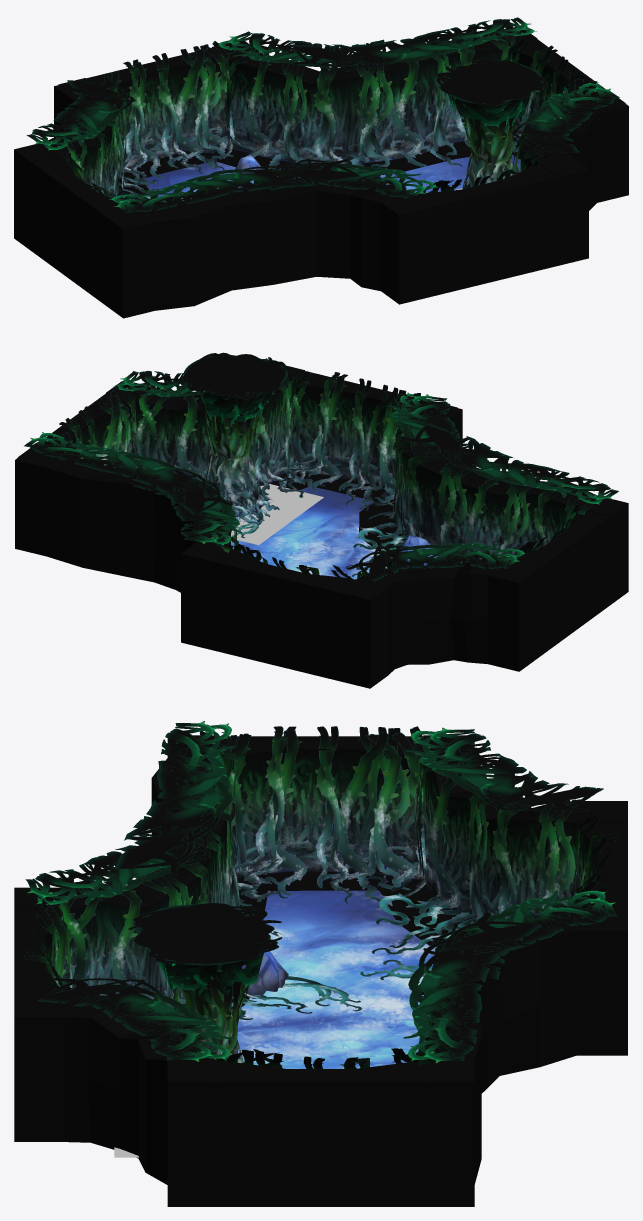
The model's file is Dungeon_012_RoadX_001.fbx.
The picture shows the model from 3 angles, top to bottom: view 1: azimuth 30°, elevation 25°; view 2: azimuth 150°, elevation 25°; view 3: azimuth 270°, elevation 25°; orthographic projection. The views are drawn at different scales.
Visible parts, largest first — view 1: Dan1, un_021_Door_002 (×4), Dungeon_021_Tsuta_003, Dungeon_021_Tsuta_002, un_021_Door_002_Object1 (×3), Dungeon_021_Object_010, Dungeon_021_Object_011, Dan002_02, Dan1_shadow, Dun_011_Door_002_shadow; view 2: Dan1, un_021_Door_002 (×4), Dungeon_021_Tsuta_003, Dungeon_021_Tsuta_002, un_021_Door_002_Object1 (×3), Dan002_02, Dungeon_021_Object_010, Dungeon_021_Object_011, Dangeonpats_001_shadow_002, Dan1_shadow, Dungeon_021_Tsuta_001, Dun_011_Door_002_shadow; view 3: Dan1, un_021_Door_002 (×4), Dungeon_021_Tsuta_003, Dan002_02, un_021_Door_002_Object1 (×4), Dungeon_021_Tsuta_002, Dungeon_021_Object_010, Dungeon_021_Tsuta_001, Dungeon_021_Object_011, Dan1_shadow, Dun_011_Door_002_shadow, Dungeon_011_Object_012.
Boxes of the visible parts, box(x1,y1,x2,y2) form: Dan1: box(14, 27, 628, 318); un_021_Door_002 (×4): box(17, 29, 625, 304); Dungeon_021_Tsuta_003: box(26, 17, 619, 213); Dungeon_021_Tsuta_002: box(65, 25, 583, 205); un_021_Door_002_Object1 (×3): box(102, 37, 597, 194); Dungeon_021_Object_010: box(435, 58, 548, 128); Dungeon_021_Object_011: box(461, 99, 515, 189); Dan002_02: box(144, 154, 520, 200); Dan1_shadow: box(117, 141, 471, 205); Dun_011_Door_002_shadow: box(119, 148, 228, 182); Dan1: box(15, 381, 628, 688); un_021_Door_002 (×4): box(18, 365, 625, 680); Dungeon_021_Tsuta_003: box(24, 358, 618, 581); Dungeon_021_Tsuta_002: box(65, 377, 597, 578); un_021_Door_002_Object1 (×3): box(57, 370, 420, 579); Dan002_02: box(231, 487, 387, 579); Dungeon_021_Object_010: box(182, 352, 287, 427); Dungeon_021_Object_011: box(202, 391, 279, 524); Dangeonpats_001_shadow_002: box(231, 484, 323, 545); Dan1_shadow: box(270, 472, 443, 559); Dungeon_021_Tsuta_001: box(232, 505, 408, 576); Dun_011_Door_002_shadow: box(289, 472, 395, 504); Dan1: box(14, 738, 627, 1206); un_021_Door_002 (×4): box(14, 735, 627, 1206); Dungeon_021_Tsuta_003: box(25, 721, 616, 1063); Dan002_02: box(231, 890, 436, 1068); un_021_Door_002_Object1 (×4): box(24, 726, 618, 1069); Dungeon_021_Tsuta_002: box(48, 731, 594, 1066); Dungeon_021_Object_010: box(128, 903, 282, 996); Dungeon_021_Tsuta_001: box(169, 893, 476, 1019); Dungeon_021_Object_011: box(168, 963, 253, 1062); Dan1_shadow: box(174, 882, 471, 1025); Dun_011_Door_002_shadow: box(237, 871, 422, 891); Dungeon_011_Object_012: box(241, 951, 288, 998).
Size of what is drawn, in the model's own units: 12.14 by 3.03 by 9.02.
